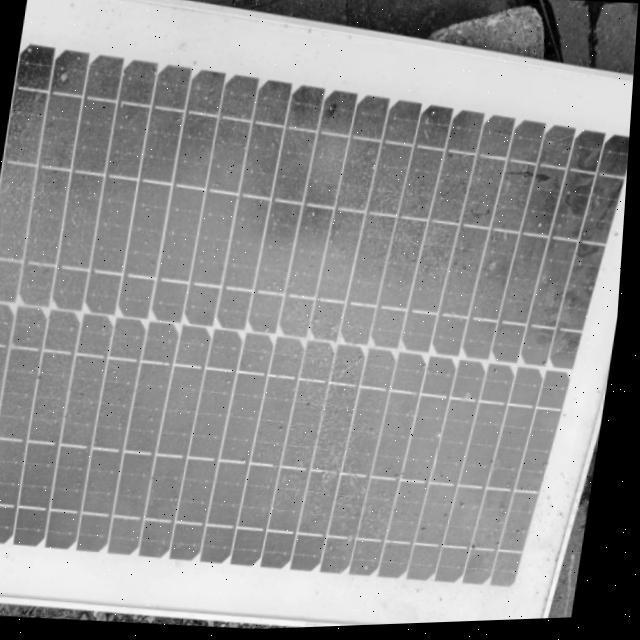Surface Contaminant: (0, 73, 614, 604)
